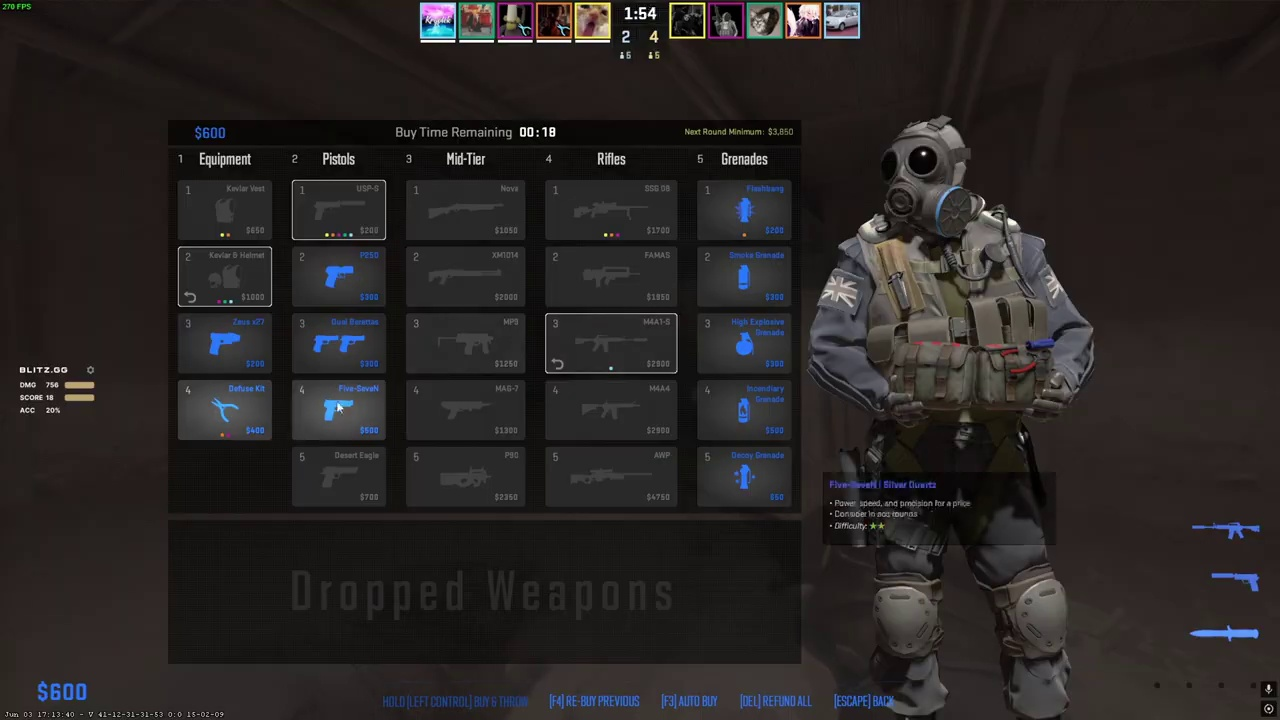CT: (850, 122, 1077, 720)
